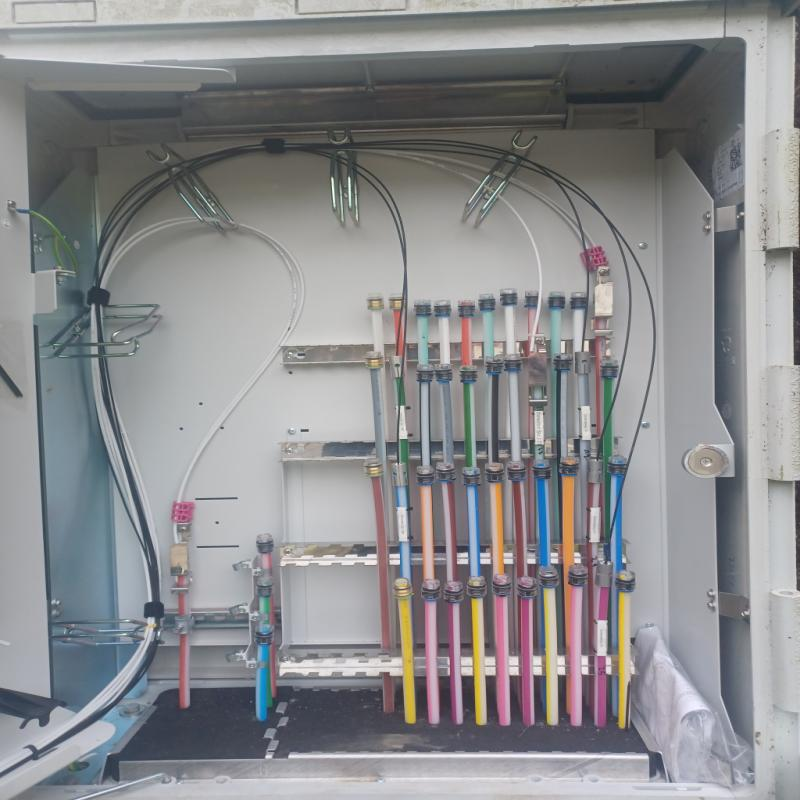NT-Gehause: (0, 0, 795, 796)
